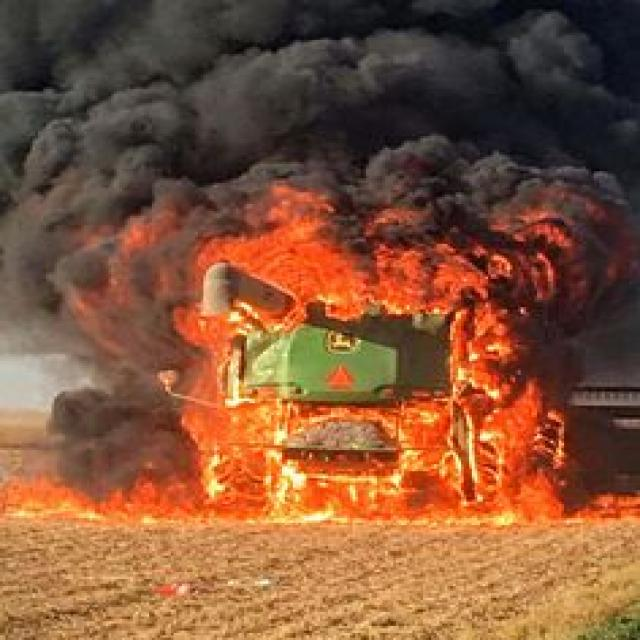Fire: (192, 276, 560, 530)
